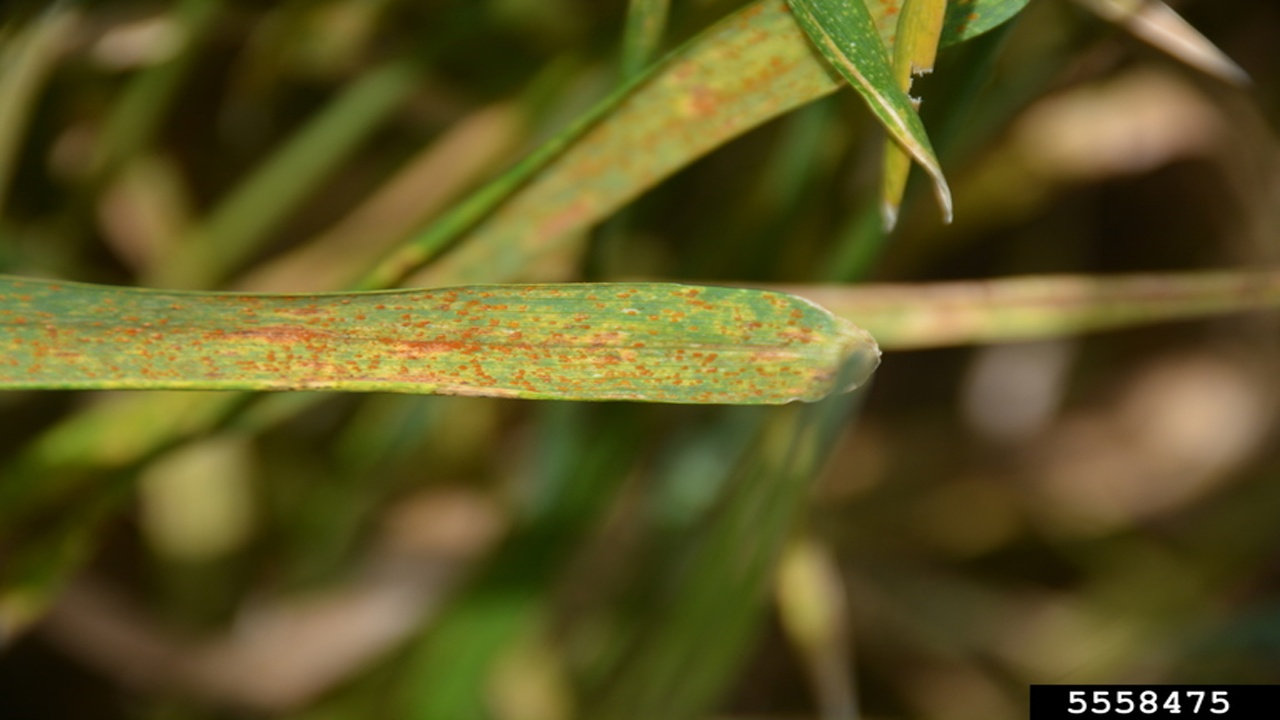leaf_rust: (389, 1, 896, 279), (1, 276, 879, 407)
